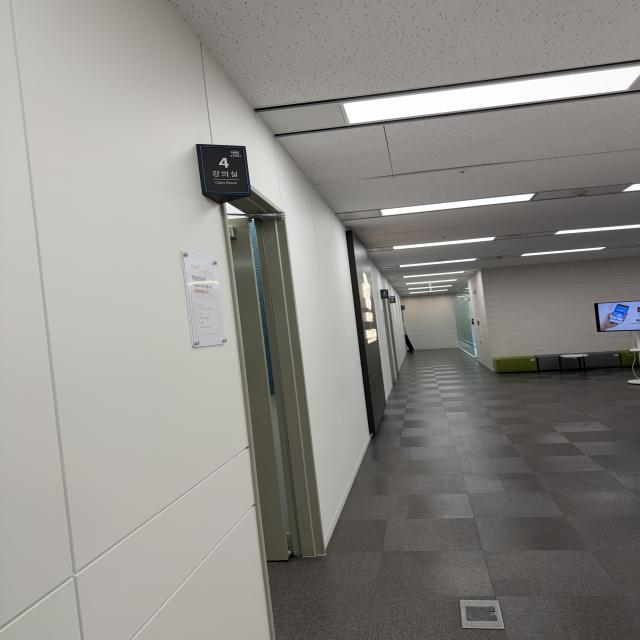room4: (199, 145, 248, 193)
